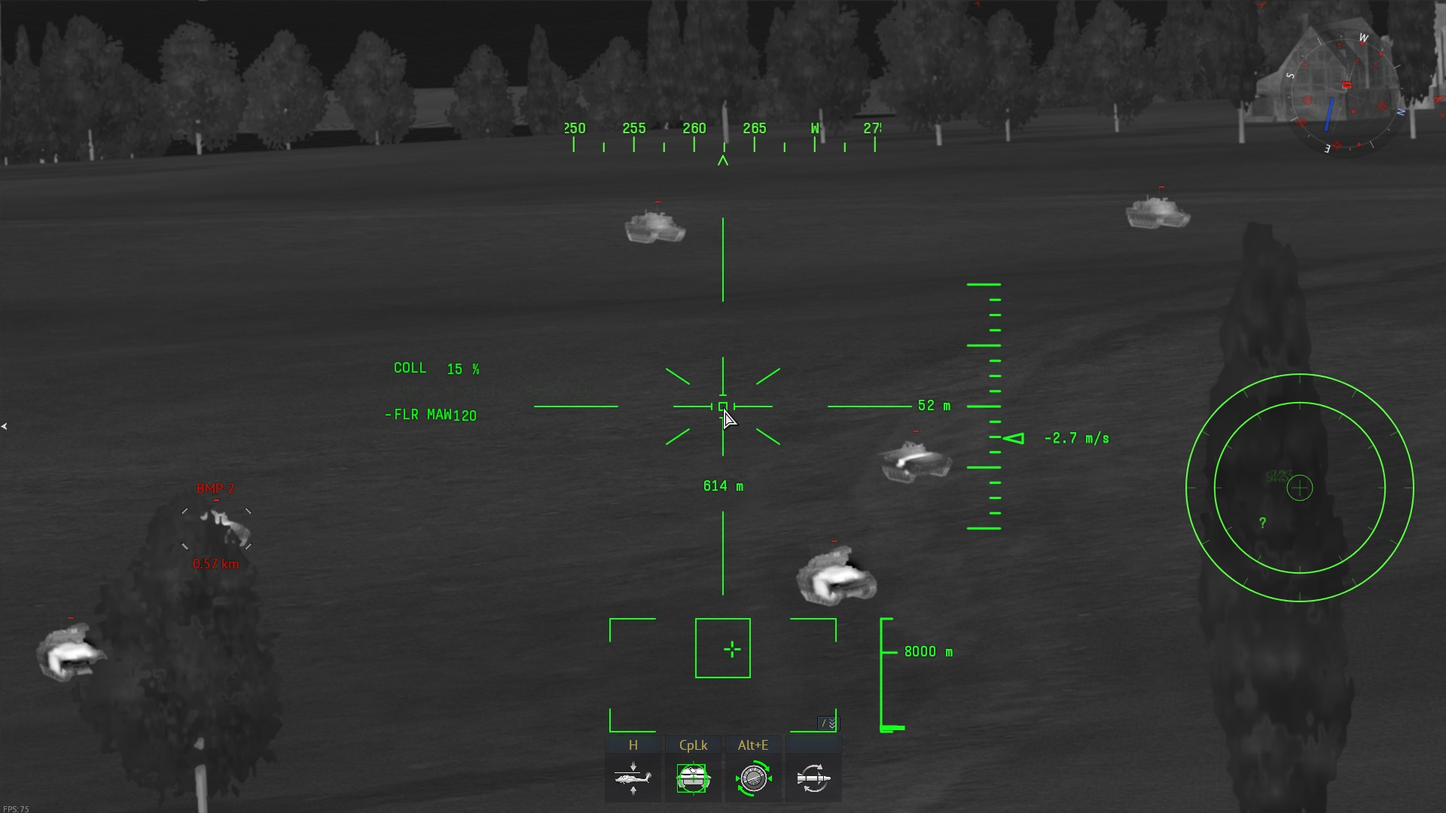abrams: (1124, 198, 1191, 229), (625, 212, 686, 244)
bmp2: (878, 442, 952, 484)
bradley: (796, 545, 879, 607)
